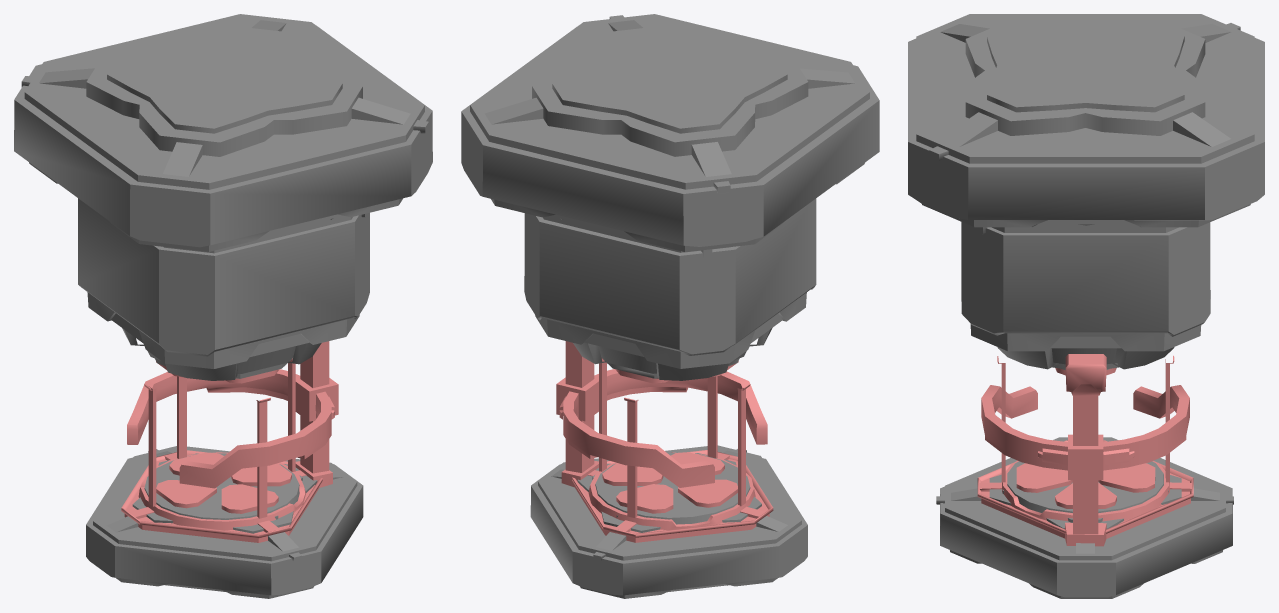
The model's file is S_Envi_Central_Props_010.gltf.
The picture shows the model from 3 angles, left to right: view 1: azimuth 30°, elevation 25°; view 2: azimuth 150°, elevation 25°; view 3: azimuth 270°, elevation 25°; orthographic projection. The views are drawn at different scales.
Parts seen in each view (by area): view 1: S_Envi_Central_Props_010; view 2: S_Envi_Central_Props_010; view 3: S_Envi_Central_Props_010.
Boxes of the visible parts, bbox=[...] form: S_Envi_Central_Props_010: bbox=[14, 14, 432, 598]; S_Envi_Central_Props_010: bbox=[461, 14, 879, 598]; S_Envi_Central_Props_010: bbox=[908, 14, 1264, 598].
Size of the model in its own units: 17.13 by 25.98 by 17.13.
